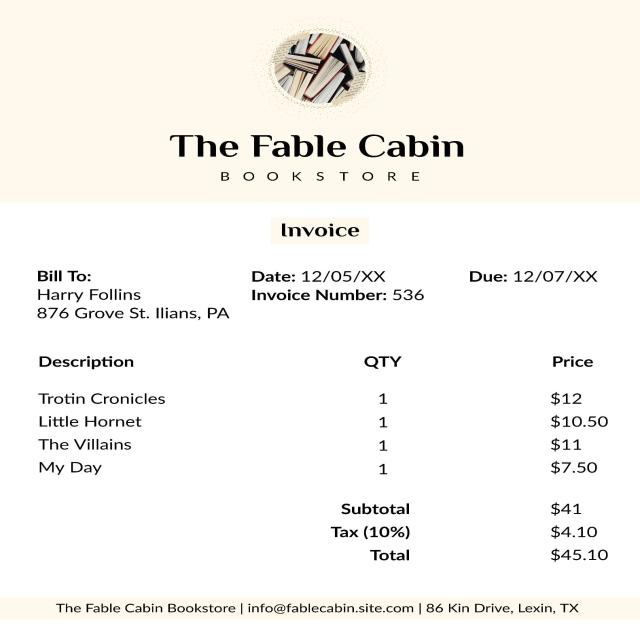paragraph: (317, 502, 624, 574), (142, 131, 494, 192), (225, 24, 418, 116), (26, 262, 233, 332), (29, 598, 604, 623), (456, 260, 614, 289), (243, 262, 401, 286), (246, 290, 434, 308), (266, 214, 372, 243)
table: (13, 343, 623, 493)
